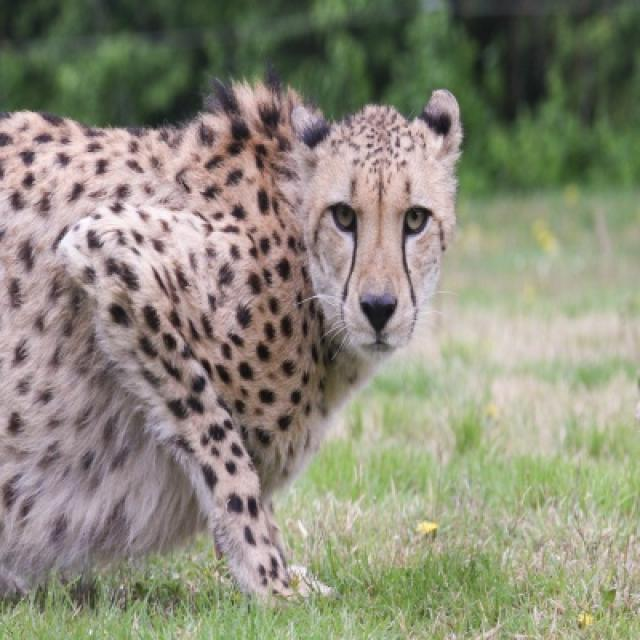Cheetah: (0, 82, 461, 595)
